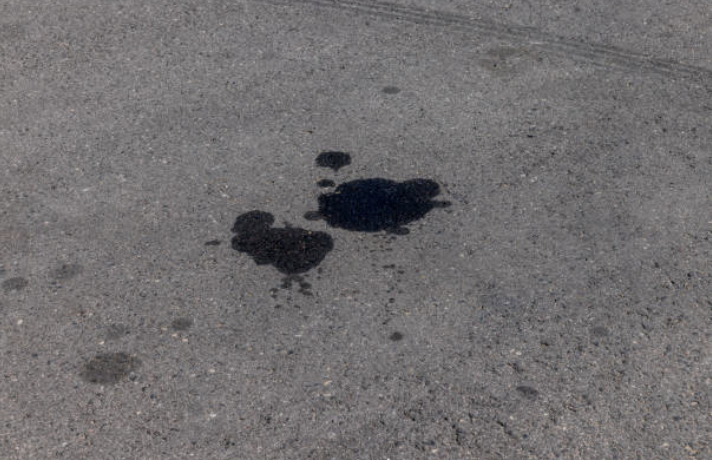oil: (153, 88, 231, 119), (115, 104, 168, 142), (39, 176, 73, 194), (156, 74, 175, 87)
